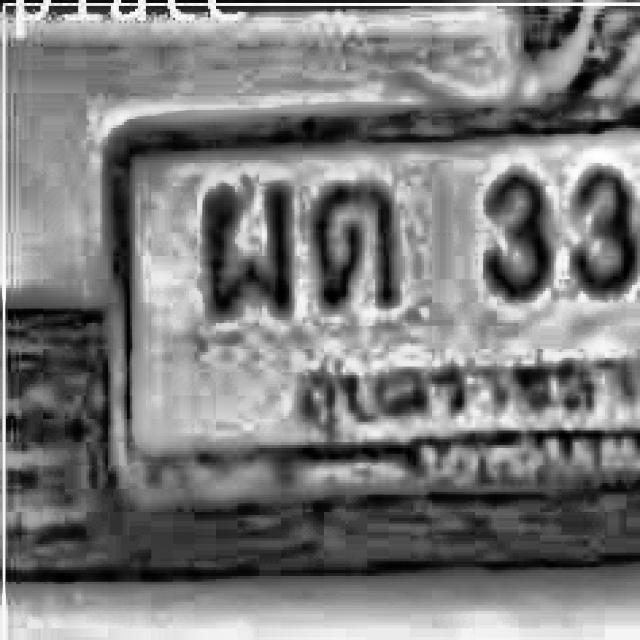license-plate: (94, 90, 640, 517)
